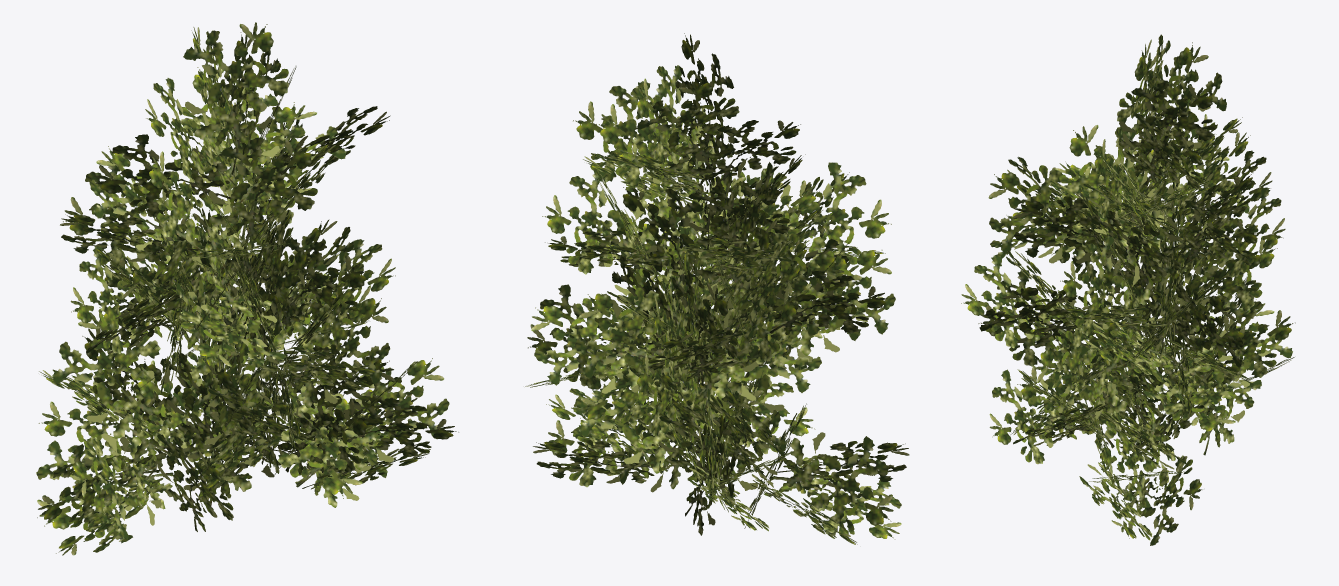
Rendered from busch_0.glb.
3 renders of one model, left to right at view 1: azimuth 30°, elevation 25°; view 2: azimuth 150°, elevation 25°; view 3: azimuth 270°, elevation 25°, orthographic. The views are drawn at different scales.
Parts seen in each view (by area): view 1: laub; view 2: laub; view 3: laub.
Boxes of the visible parts, x1,y1,x2,y2 form: laub: (36, 22, 458, 555); laub: (525, 33, 909, 544); laub: (961, 34, 1295, 545).
Size of the model in its own units: 2.4 by 3 by 2.16.
Materials: 1 (1 with a texture image).
